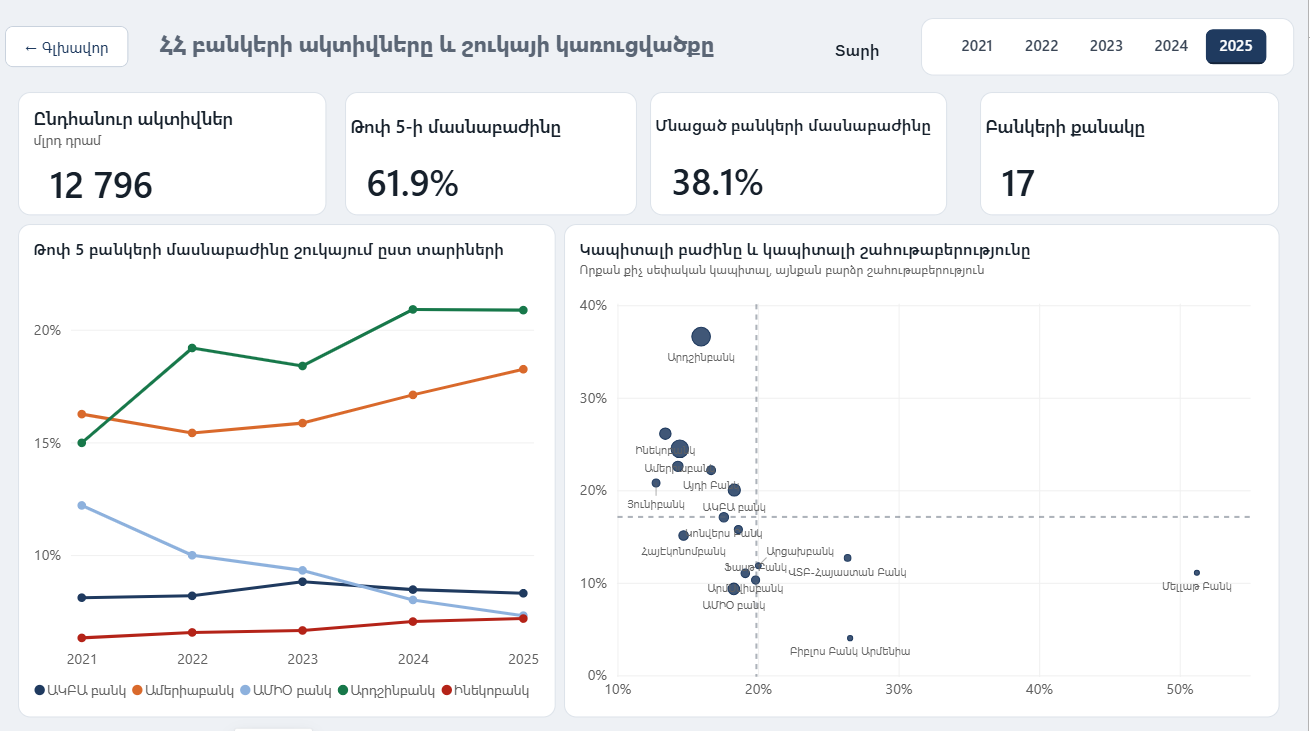

The dashboard page shown, as its layout file describes it:
{"tool":"powerbi","page":{"name":"Ակտիվներ","canvas":[1280,720],"ordinal":1},"visuals":[{"type":"actionButton","box":[12.5,31.2,120,40],"z":0},{"type":"textbox","box":[148.8,21.2,576.2,58.8],"z":1000},{"type":"advancedSlicerVisual","fields":{"Values":["Dim_Year.Year"]},"box":[903.8,23.8,362.5,56.2],"z":2000},{"type":"textbox","title":"Տարի","box":[803.8,31.2,76.2,41.2],"z":3000},{"type":"cardVisual","title":"Ընդհանուր ակտիվներ","fields":{"Data":["_Measures.KPI_Assets"]},"box":[25,95,300,120],"z":4000},{"type":"cardVisual","title":"Թոփ 5-ի մասնաբաժինը","fields":{"Data":["_Measures.Top5_Share%"]},"box":[343.8,95,283.8,120],"z":5000},{"type":"cardVisual","title":"Մնացած բանկերի մասնաբաժինը","fields":{"Data":["_Measures.Others_Share%"]},"box":[640,95,288.8,120],"z":6000},{"type":"cardVisual","title":"Բանկերի քանակը","fields":{"Data":["_Measures.Bank_Count"]},"box":[961.2,95,291.2,120],"z":7000},{"type":"lineChart","title":"Թոփ 5 բանկերի մասնաբաժինը շուկայում ըստ տարիների","fields":{"Category":["Dim_Year.Year"],"Series":["Dim_Bank.BankName"],"Y":["_Measures.Market_Share%"]},"box":[25.3,223.7,522.3,470.8],"z":8000},{"type":"scatterChart","title":"Կապիտալի բաժինը և կապիտալի շահութաբերությունը","fields":{"Category":["Dim_Bank.BankName"],"Size":["_Measures.Total_Assets"],"X":["_Measures.Equity_to_Assets%"],"Y":["_Measures.ROE%"]},"box":[556.4,223.7,696.4,470.8],"z":9000}]}

Visuals, with their boxes in screenshot pixels (x1, y1, x2, y2), scaled from the page's 1280x720 canvas onto the 1310x731 screenshot:
actionButton: select_region(13, 32, 136, 72)
textbox: select_region(152, 22, 742, 81)
advancedSlicerVisual - Dim_Year.Year: select_region(925, 24, 1296, 81)
"Տարի" textbox: select_region(823, 32, 901, 74)
"Ընդհանուր ակտիվներ" cardVisual: select_region(26, 96, 333, 218)
"Թոփ 5-ի մասնաբաժինը" cardVisual: select_region(352, 96, 642, 218)
"Մնացած բանկերի մասնաբաժինը" cardVisual: select_region(655, 96, 951, 218)
"Բանկերի քանակը" cardVisual: select_region(984, 96, 1282, 218)
"Թոփ 5 բանկերի մասնաբաժինը շուկայում ըստ տարիների" lineChart: select_region(26, 227, 560, 705)
"Կապիտալի բաժինը և կապիտալի շահութաբերությունը" scatterChart: select_region(569, 227, 1282, 705)
